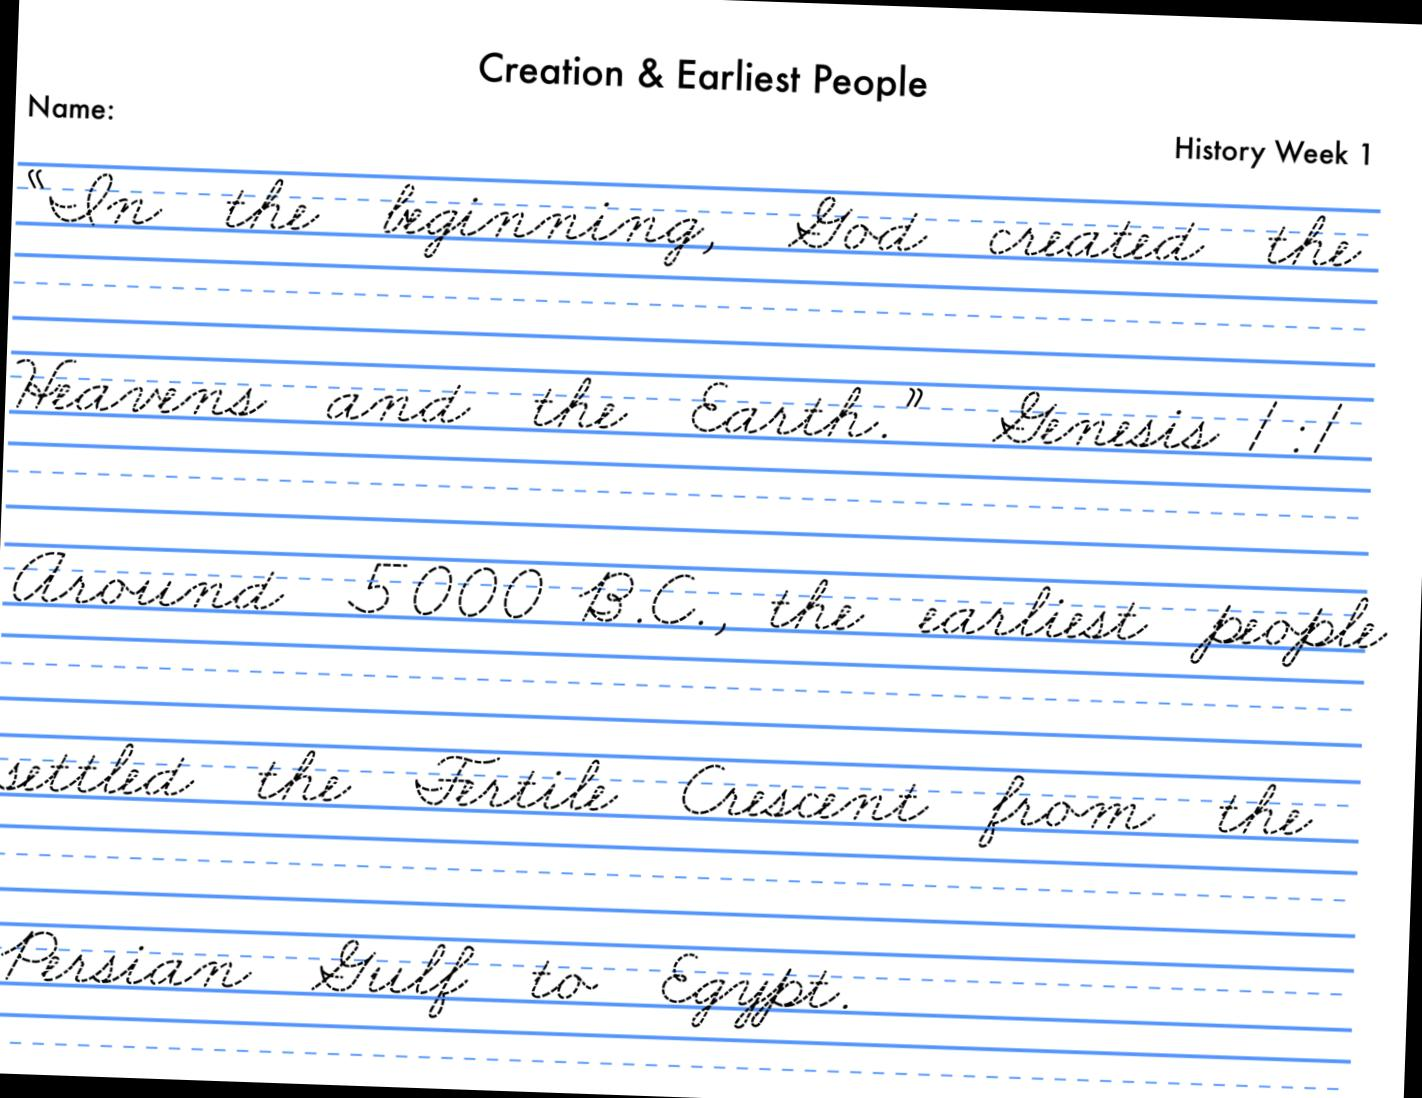text: (6, 542, 1392, 679), (18, 161, 1370, 296), (0, 736, 1319, 865), (8, 349, 1347, 467), (0, 922, 853, 1040), (472, 43, 930, 110), (1172, 130, 1377, 180), (21, 88, 116, 128)
